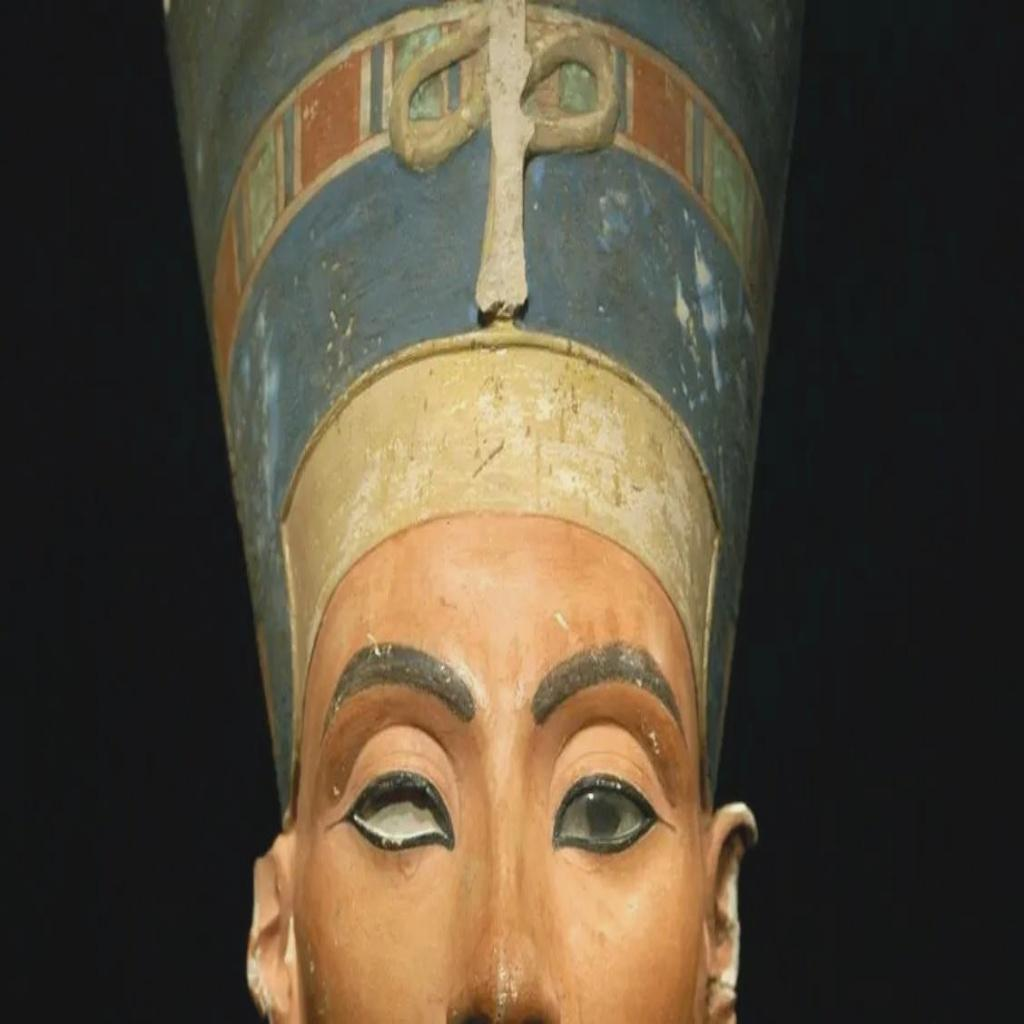Nefertiti: (162, 0, 804, 1019)
